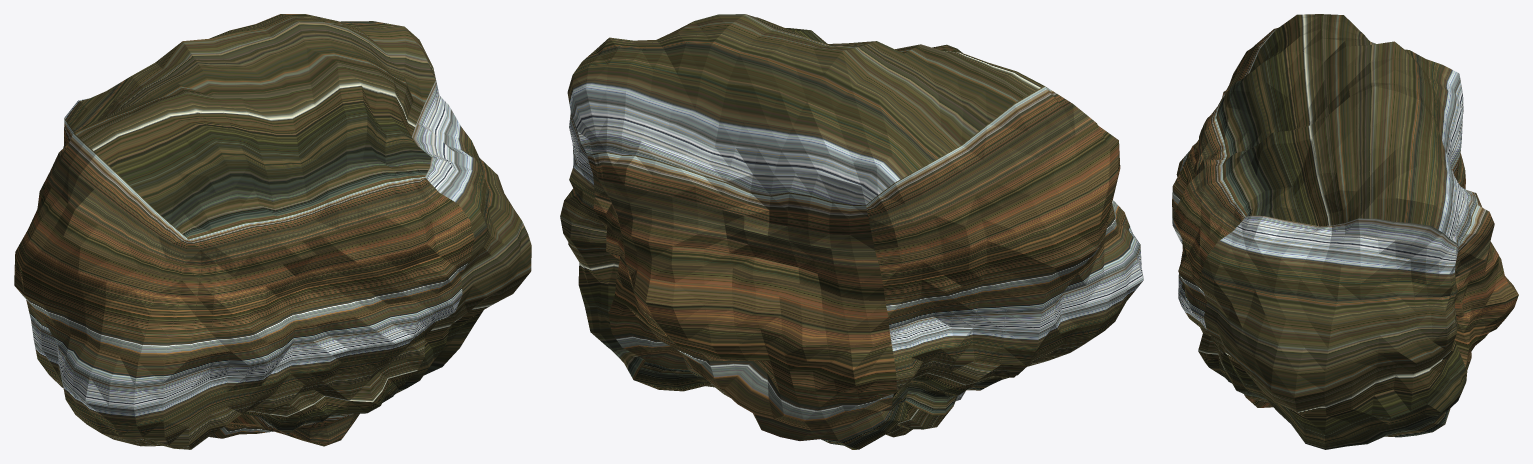
The model's file is asteroid.obj.
3 views of the same model, side by side, from view 1: azimuth 30°, elevation 25°; view 2: azimuth 150°, elevation 25°; view 3: azimuth 270°, elevation 25° (orthographic). The views are drawn at different scales.
Visible parts, largest first — view 1: Cube; view 2: Cube; view 3: Cube.
Part boxes in pixels (x1,y1,x2,y2): Cube: (14,14,531,449); Cube: (560,14,1143,449); Cube: (1172,14,1518,449).
Size of the model in its own units: 5.95 by 4.32 by 3.97.
1 material, 1 textured.
